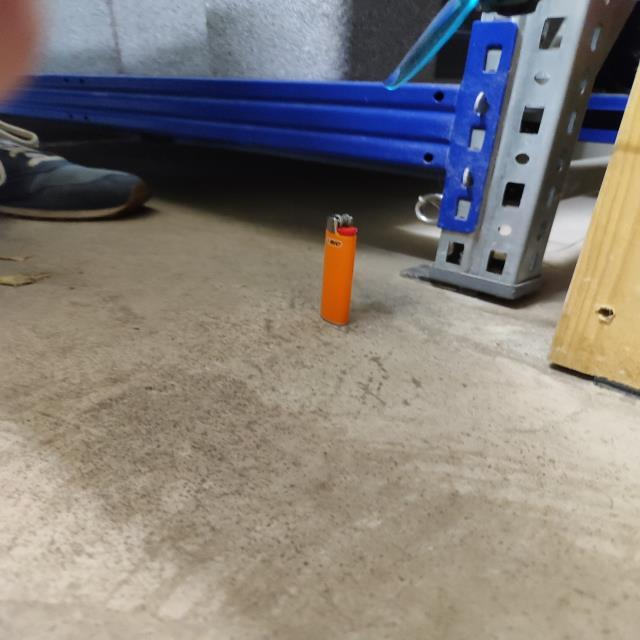lighter: (320, 213, 357, 325)
